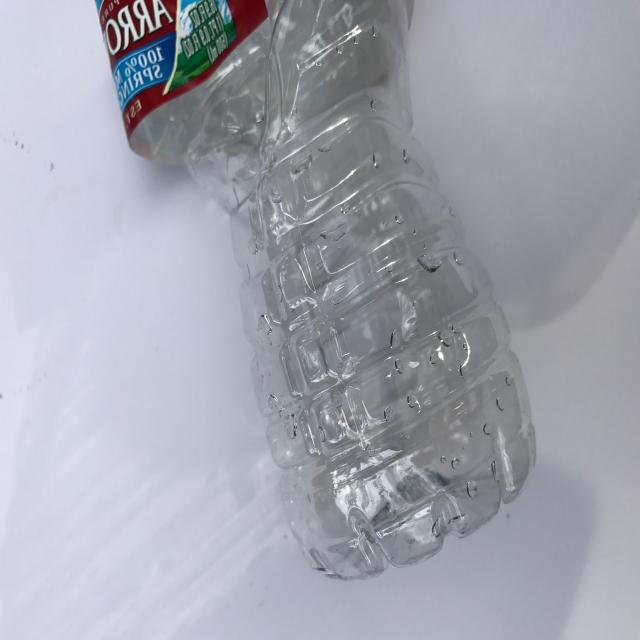plastic: (96, 0, 538, 581)
